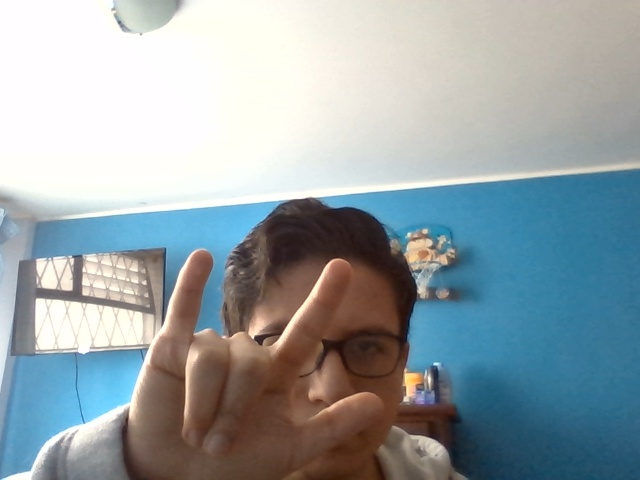amor: (151, 242, 391, 480)
